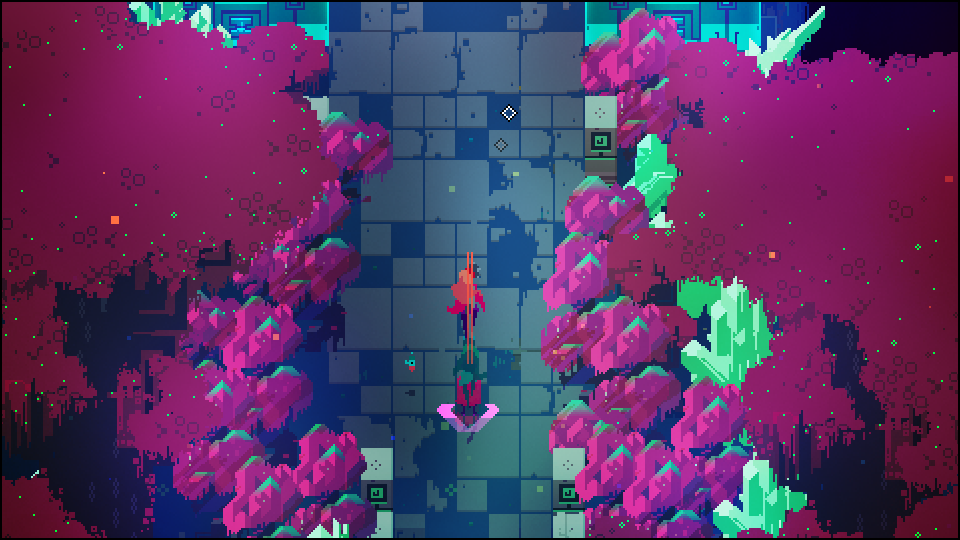player: (450, 261, 483, 319)
